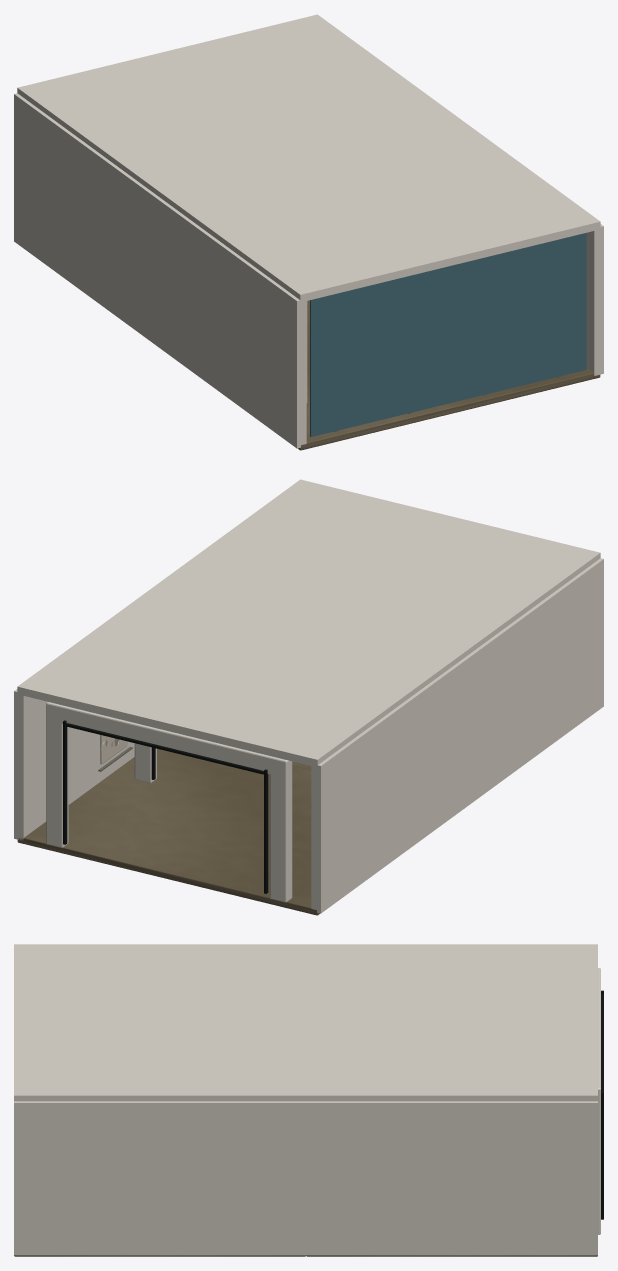
File: luminous-passage-entry.glb
The picture shows the model from 3 angles, top to bottom: view 1: azimuth 30°, elevation 25°; view 2: azimuth 150°, elevation 25°; view 3: azimuth 270°, elevation 25°; orthographic projection. The views are drawn at different scales.
Parts seen in each view (by area): view 1: Ceiling_daylit-portico, Ceiling_foundation-chamber, Portico_glass, Wall_daylit-portico, Wall_foundation-chamber, Floor_daylit-portico, Wall_daylit-portico.001; view 2: Ceiling_foundation-chamber, Ceiling_daylit-portico, Floor_foundation-chamber, Wall_foundation-chamber, Wall_daylit-portico, Wall_foundation-chamber.001, Portal_lintel.004, Portal_jamb.008, Portal_jamb.009, Portal_shadow_reveal_head.004, Portal_jamb.007, Portal_shadow_reveal.008 (+1 smaller); view 3: Ceiling_daylit-portico, Ceiling_foundation-chamber, Wall_daylit-portico.001, Wall_foundation-chamber.001, Floor_daylit-portico, Floor_foundation-chamber, Portal_jamb.009.
Boxes of the visible parts, <box> form: Ceiling_daylit-portico: <box>159,118,600,301</box>; Ceiling_foundation-chamber: <box>17,14,458,196</box>; Portico_glass: <box>310,233,586,436</box>; Wall_daylit-portico: <box>155,197,306,448</box>; Wall_foundation-chamber: <box>14,93,158,344</box>; Floor_daylit-portico: <box>298,304,600,450</box>; Wall_daylit-portico.001: <box>586,224,603,375</box>; Ceiling_foundation-chamber: <box>17,583,458,767</box>; Ceiling_daylit-portico: <box>159,479,600,661</box>; Floor_foundation-chamber: <box>17,748,319,915</box>; Wall_foundation-chamber: <box>311,662,462,913</box>; Wall_daylit-portico: <box>459,558,603,809</box>; Wall_foundation-chamber.001: <box>14,689,134,840</box>; Portal_lintel.004: <box>46,702,292,777</box>; Portal_jamb.008: <box>270,760,292,902</box>; Portal_jamb.009: <box>46,705,68,847</box>; Portal_shadow_reveal_head.004: <box>66,723,263,774</box>; Portal_jamb.007: <box>134,743,156,783</box>; Portal_shadow_reveal.008: <box>264,769,268,893</box>; Ceiling_daylit-portico: <box>14,944,305,1101</box>; Ceiling_foundation-chamber: <box>306,944,597,1101</box>; Wall_daylit-portico.001: <box>14,1101,305,1255</box>; Wall_foundation-chamber.001: <box>306,1101,597,1255</box>; Floor_daylit-portico: <box>14,1255,305,1256</box>; Floor_foundation-chamber: <box>306,1255,597,1256</box>; Portal_jamb.009: <box>598,1091,600,1234</box>.
Size of the model in its own units: 10.02 by 4.87 by 16.16.
7 materials, 3 textured.
